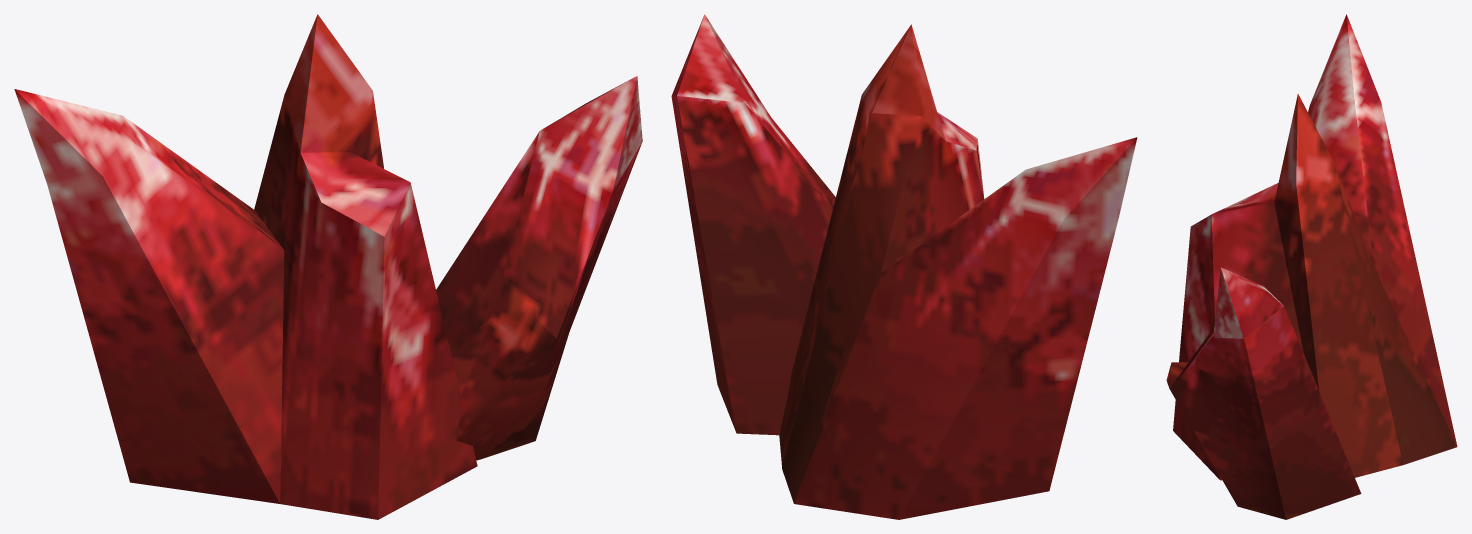
Rendered from dx_shuijing_4.FBX.
3 views of the same model, side by side, from view 1: azimuth 30°, elevation 25°; view 2: azimuth 150°, elevation 25°; view 3: azimuth 270°, elevation 25° (orthographic). The views are drawn at different scales.
Visible parts, largest first — view 1: dx_shuijing_4; view 2: dx_shuijing_4; view 3: dx_shuijing_4.
Boxes of the visible parts, <box> form: dx_shuijing_4: <box>14,14,642,519</box>; dx_shuijing_4: <box>671,14,1137,519</box>; dx_shuijing_4: <box>1166,14,1457,519</box>.
Size of the model in its own units: 90.03 by 67.65 by 51.72.
Materials: 1 (1 with a texture image).
